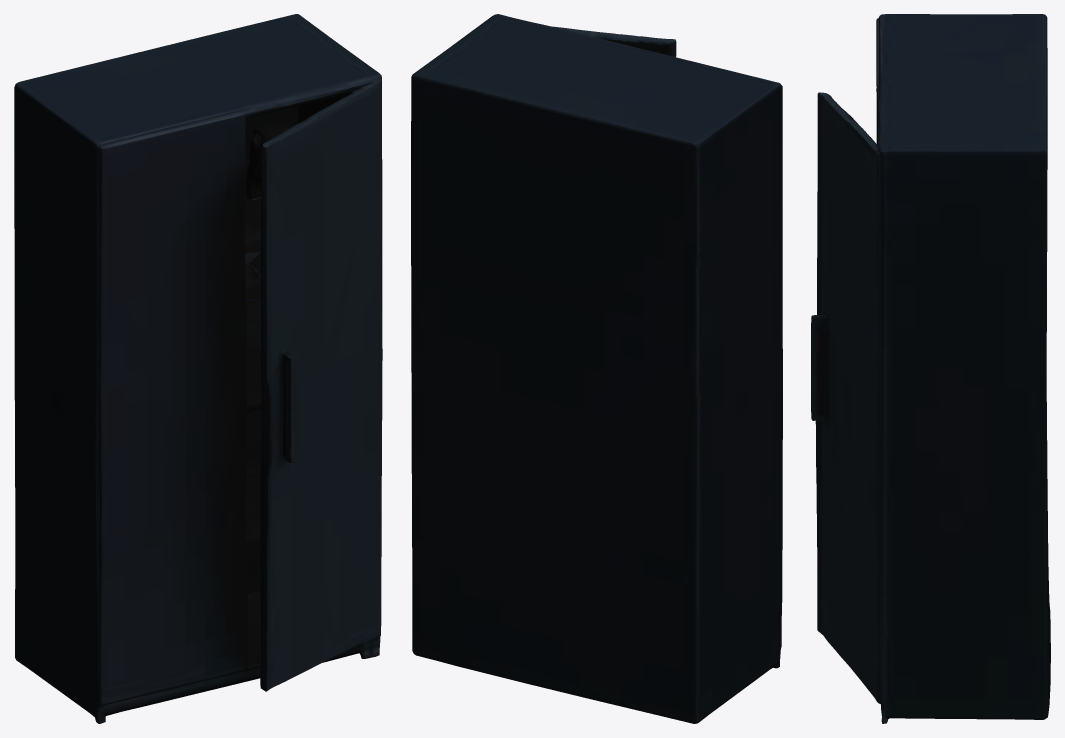
Rendered from armario.glb.
3 renders of one model, left to right at view 1: azimuth 30°, elevation 25°; view 2: azimuth 150°, elevation 25°; view 3: azimuth 270°, elevation 25°, orthographic.
Size of the model in its own units: 0.5178 by 0.9989 by 0.3773.
1 material, 1 textured.
